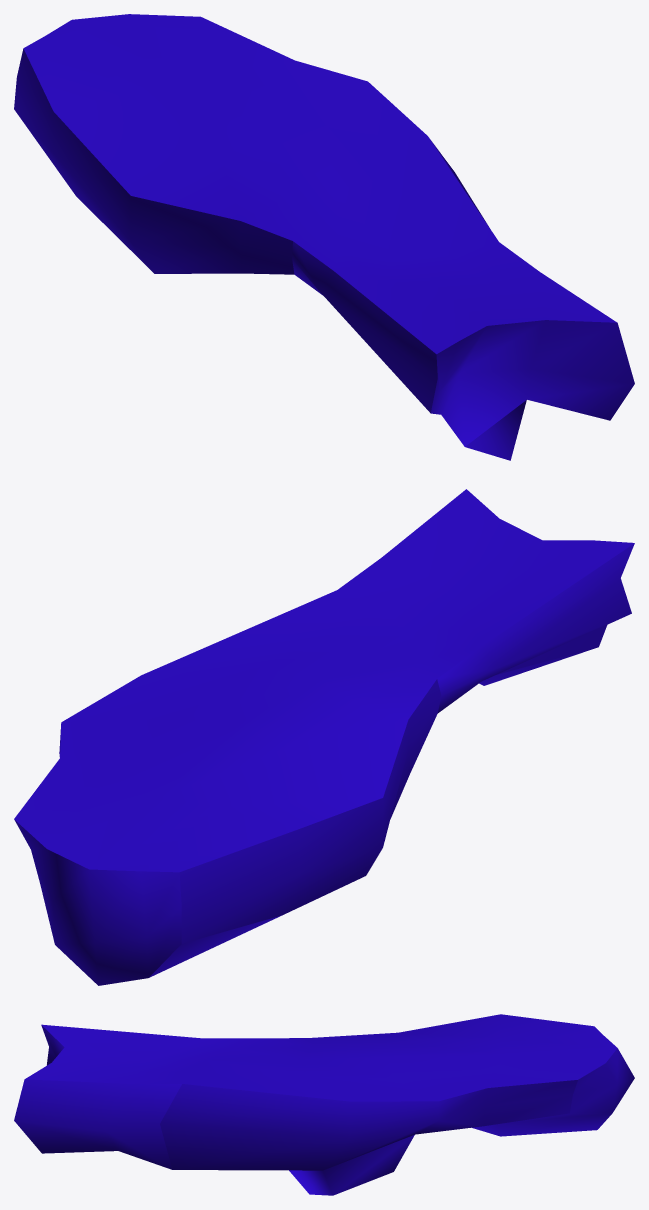
The model's file is coblestone_largeplt.fbx.
3 views of the same model, one above another, from view 1: azimuth 30°, elevation 25°; view 2: azimuth 150°, elevation 25°; view 3: azimuth 270°, elevation 25° (orthographic). The views are drawn at different scales.
Visible parts, largest first — view 1: Box355un; view 2: Box355un; view 3: Box355un.
Part boxes in pixels (x1,y1,x2,y2): Box355un: (14,14,634,460); Box355un: (14,489,634,985); Box355un: (14,1014,634,1195).
Bounding box in the file's own units: 1850 × 5225 × 1118.
